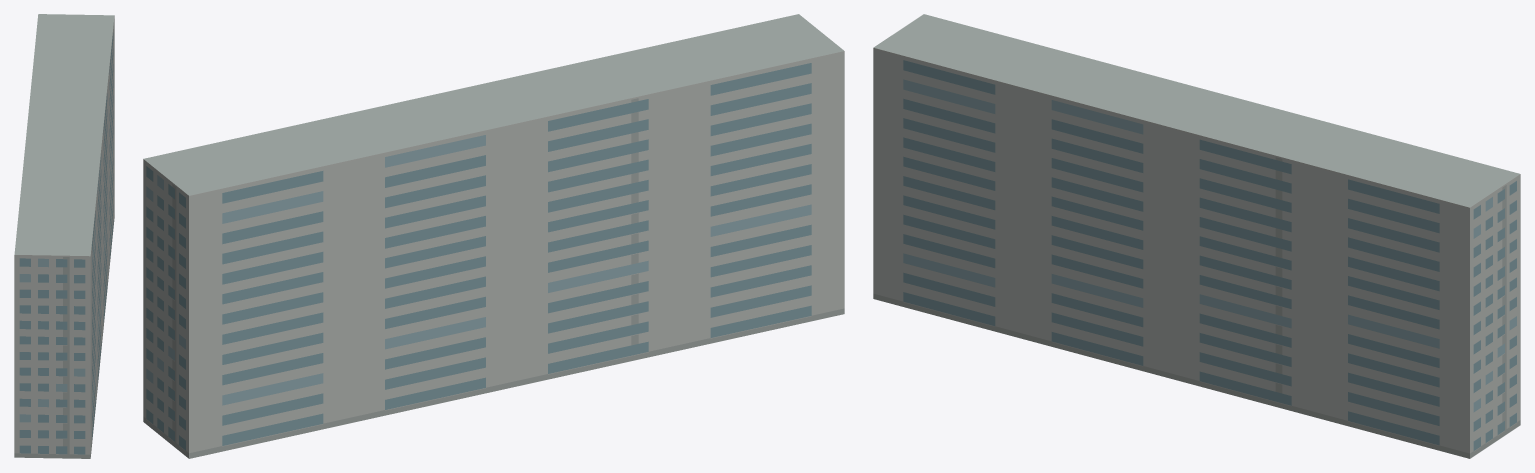
The model's file is residential-99182bfb-1220-4100-af64-46b3be5f56ef.glb.
3 views of the same model, side by side, from view 1: azimuth 30°, elevation 25°; view 2: azimuth 150°, elevation 25°; view 3: azimuth 270°, elevation 25° (orthographic). The views are drawn at different scales.
Parts seen in each view (by area): view 1: residential-99182bfb-1220-4100-af64-46b3be5f56ef.tmp; view 2: residential-99182bfb-1220-4100-af64-46b3be5f56ef.tmp; view 3: residential-99182bfb-1220-4100-af64-46b3be5f56ef.tmp.
Part boxes in pixels (bbox=[...]): residential-99182bfb-1220-4100-af64-46b3be5f56ef.tmp: bbox=[14, 14, 114, 458]; residential-99182bfb-1220-4100-af64-46b3be5f56ef.tmp: bbox=[143, 14, 844, 458]; residential-99182bfb-1220-4100-af64-46b3be5f56ef.tmp: bbox=[873, 14, 1520, 458].
Bounding box in the file's own units: 67.8 × 41 × 95.74.
